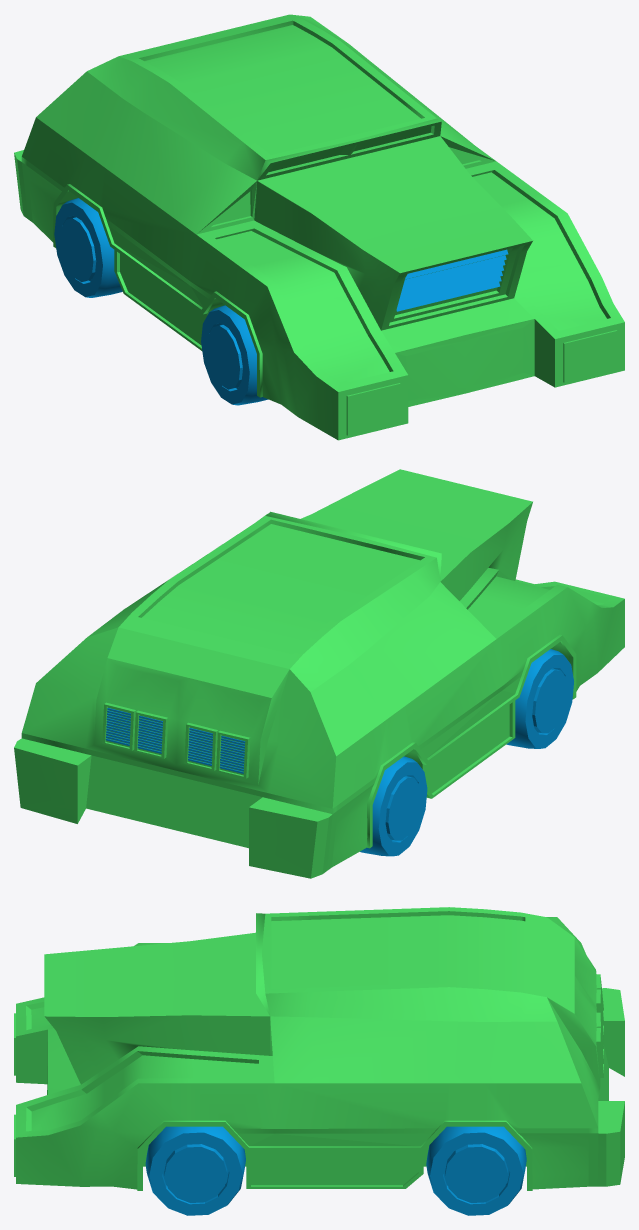
The model's file is Truck.FBX.
3 renders of one model, top to bottom at view 1: azimuth 30°, elevation 25°; view 2: azimuth 150°, elevation 25°; view 3: azimuth 270°, elevation 25°, orthographic. The views are drawn at different scales.
Visible parts, largest first — view 1: Truck_UV, Rueda003; view 2: Truck_UV, Rueda003; view 3: Truck_UV, Rueda003.
Part boxes in pixels (x1,y1,x2,y2): Truck_UV: (14,14,624,440); Rueda003: (54,198,508,405); Truck_UV: (14,469,624,878); Rueda003: (105,649,573,856); Truck_UV: (14,907,624,1190); Rueda003: (145,1126,526,1215).
Bounding box in the file's own units: 63.51 × 38.15 × 107.
